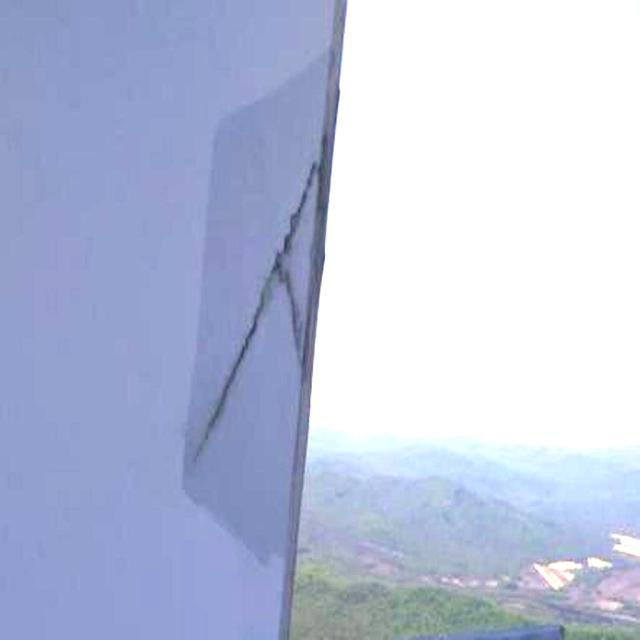crack: (191, 168, 323, 469)
